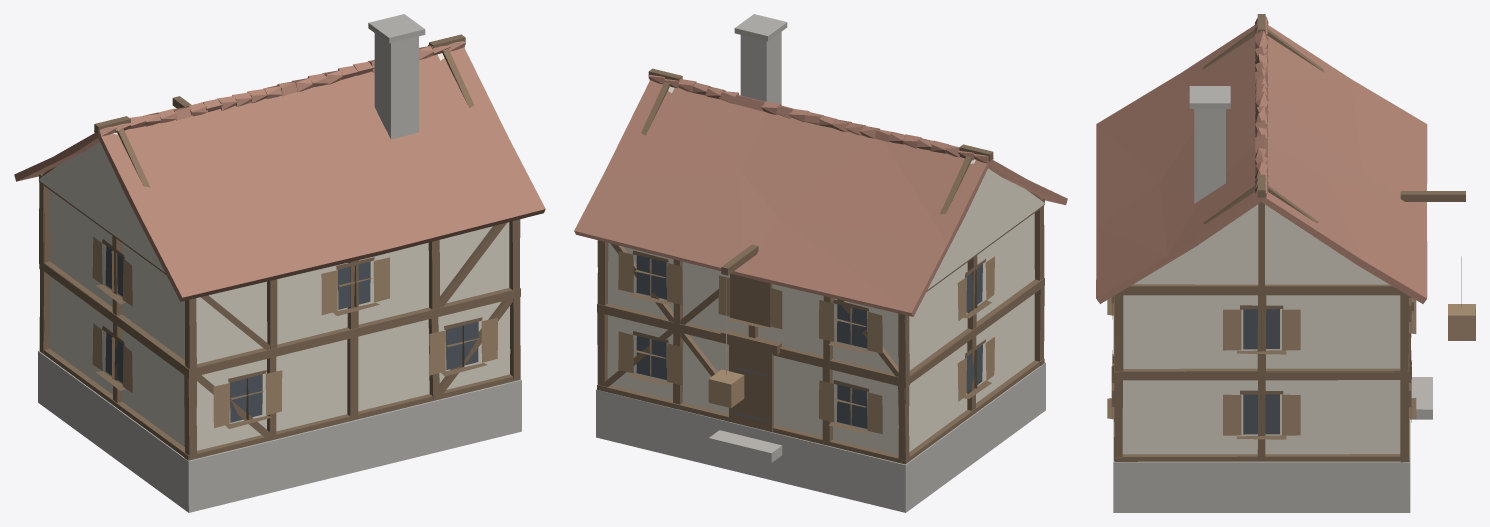
The model's file is kontor_lod1.glb.
3 renders of one model, left to right at view 1: azimuth 30°, elevation 25°; view 2: azimuth 150°, elevation 25°; view 3: azimuth 270°, elevation 25°, orthographic. The views are drawn at different scales.
Visible parts, largest first — view 1: kontor.001; view 2: kontor.001; view 3: kontor.001.
Boxes of the visible parts, left/top/right/bottom form: kontor.001: left=14, top=14, right=545, bottom=512; kontor.001: left=574, top=14, right=1067, bottom=512; kontor.001: left=1096, top=14, right=1475, bottom=512.
Size of the model in its own units: 10.2 by 10.31 by 9.29.
